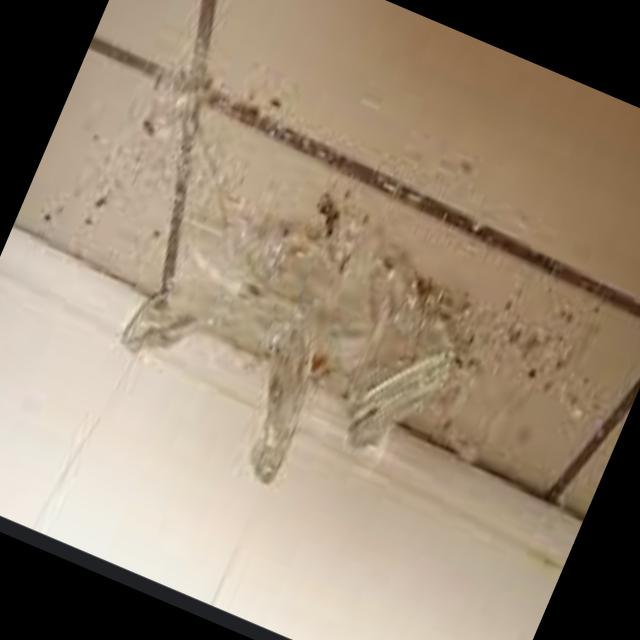PecahanKaca: (217, 314, 340, 493)
